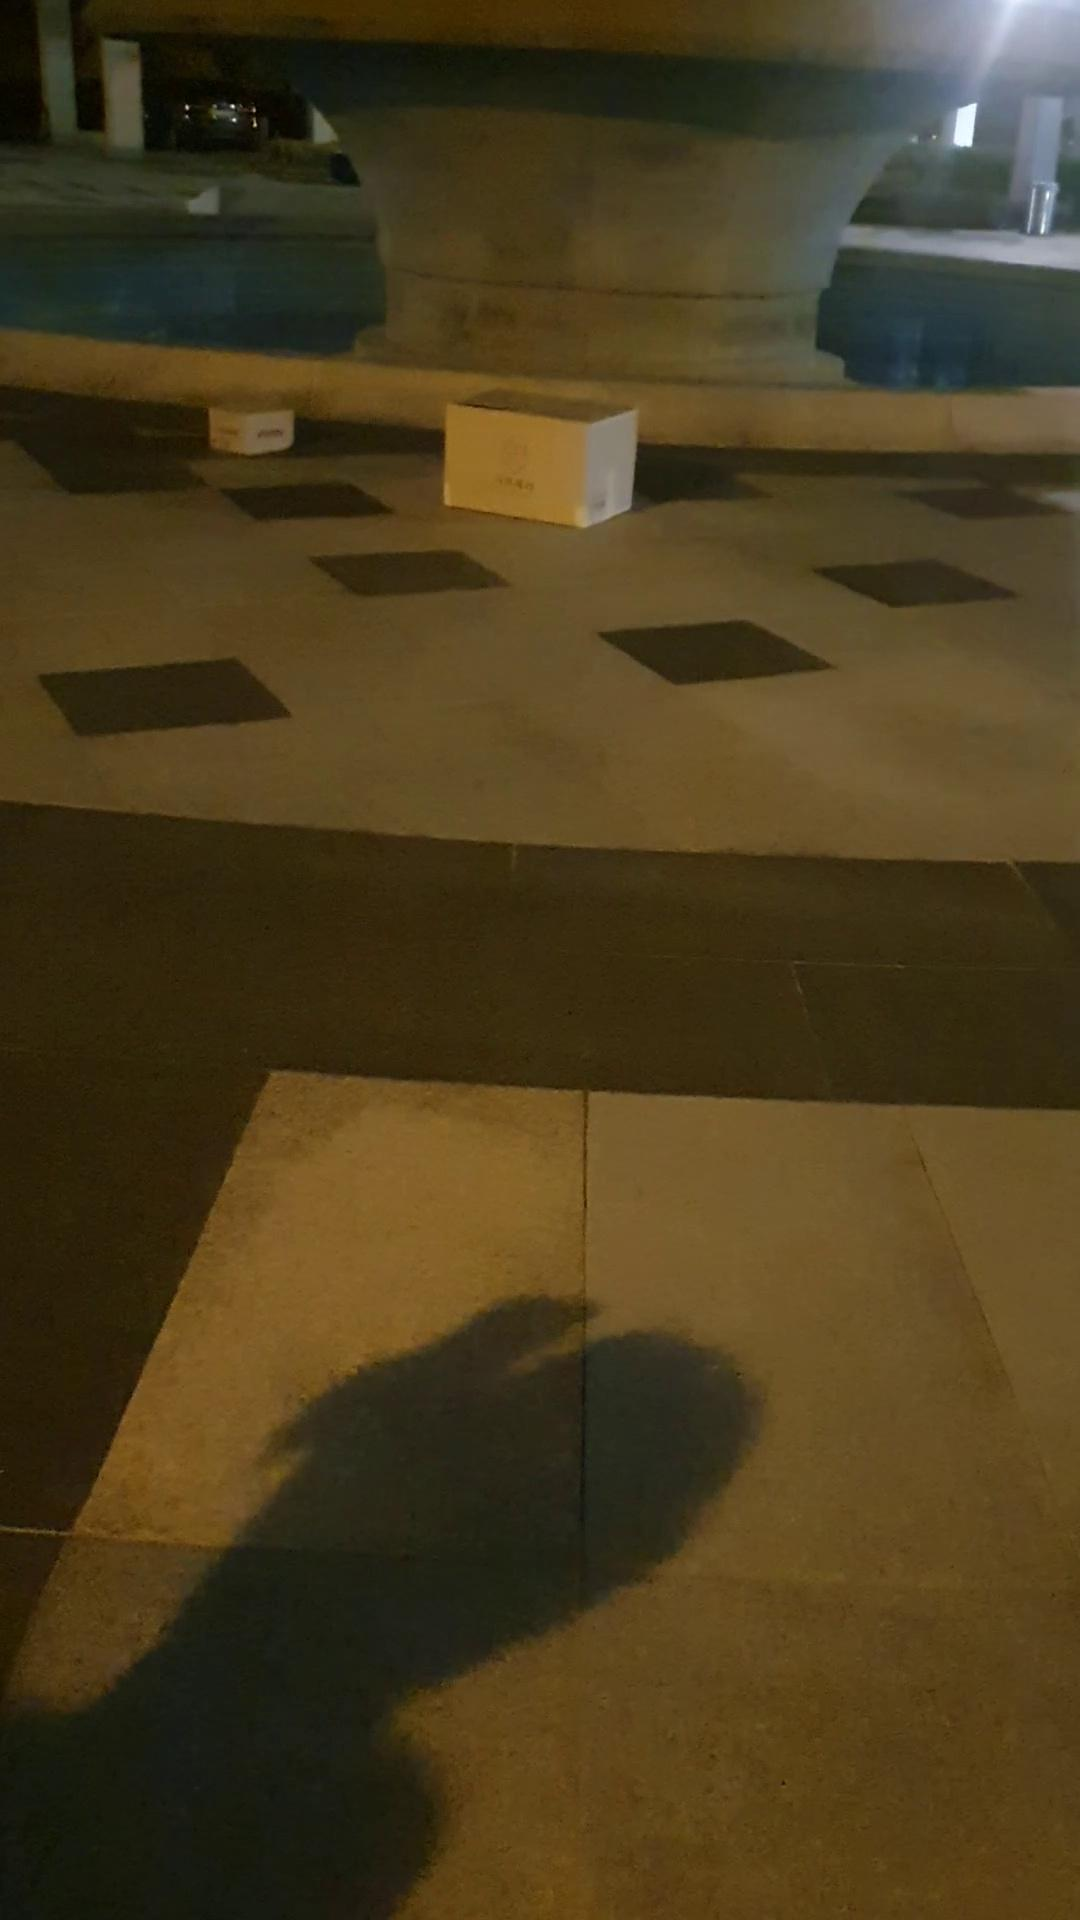Box: (426, 385, 650, 535), (196, 388, 323, 480)
